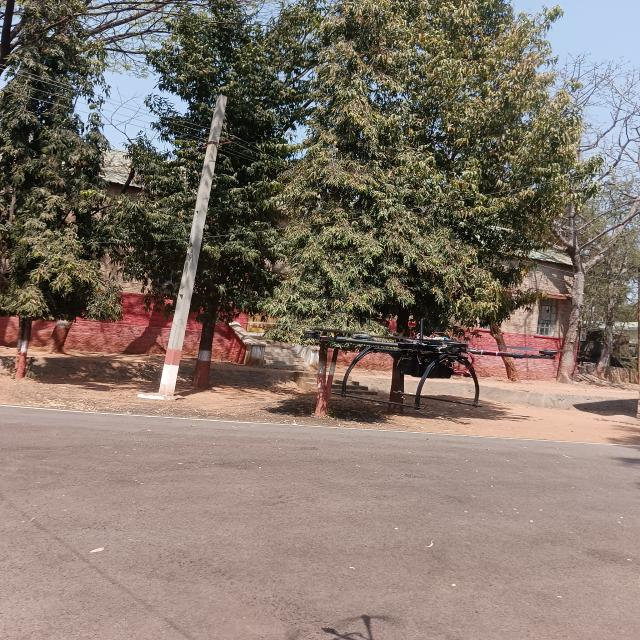drone: (234, 287, 595, 434)
